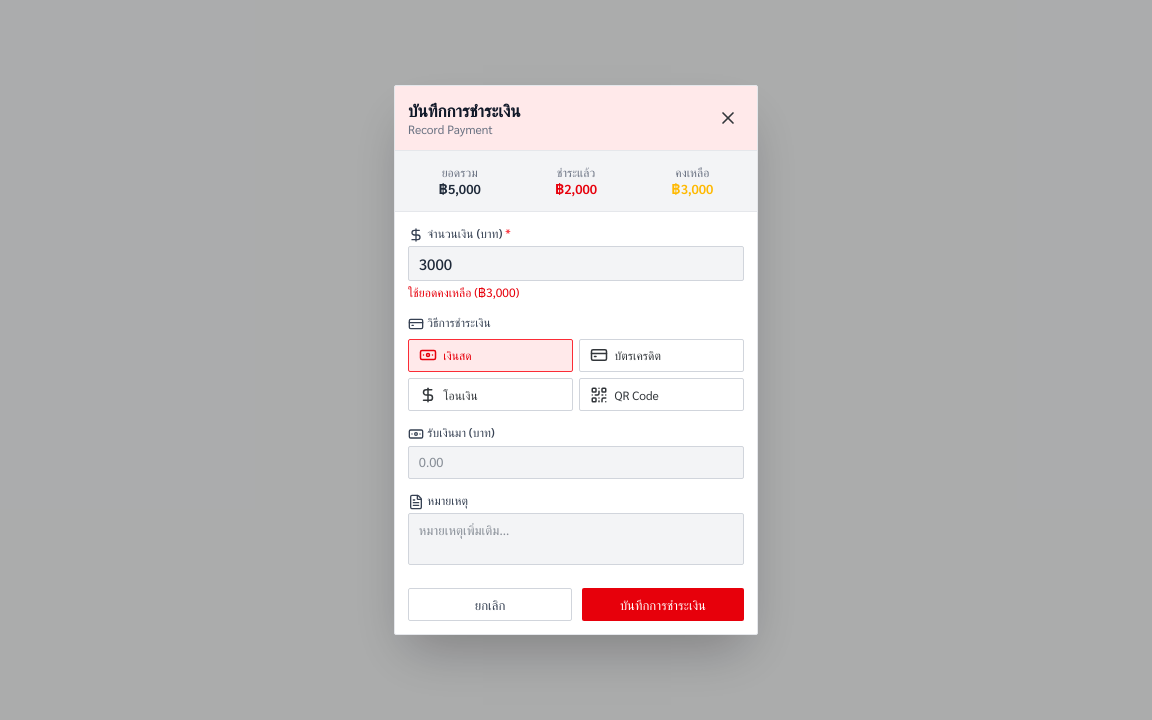
PaymentModal Component › Payment Method Selection › clicking credit card changes selection and shows reference field
The image size is (1152, 720).
Click the button "บัตรเครดิต" at [662, 356], box [579,339,744,372]
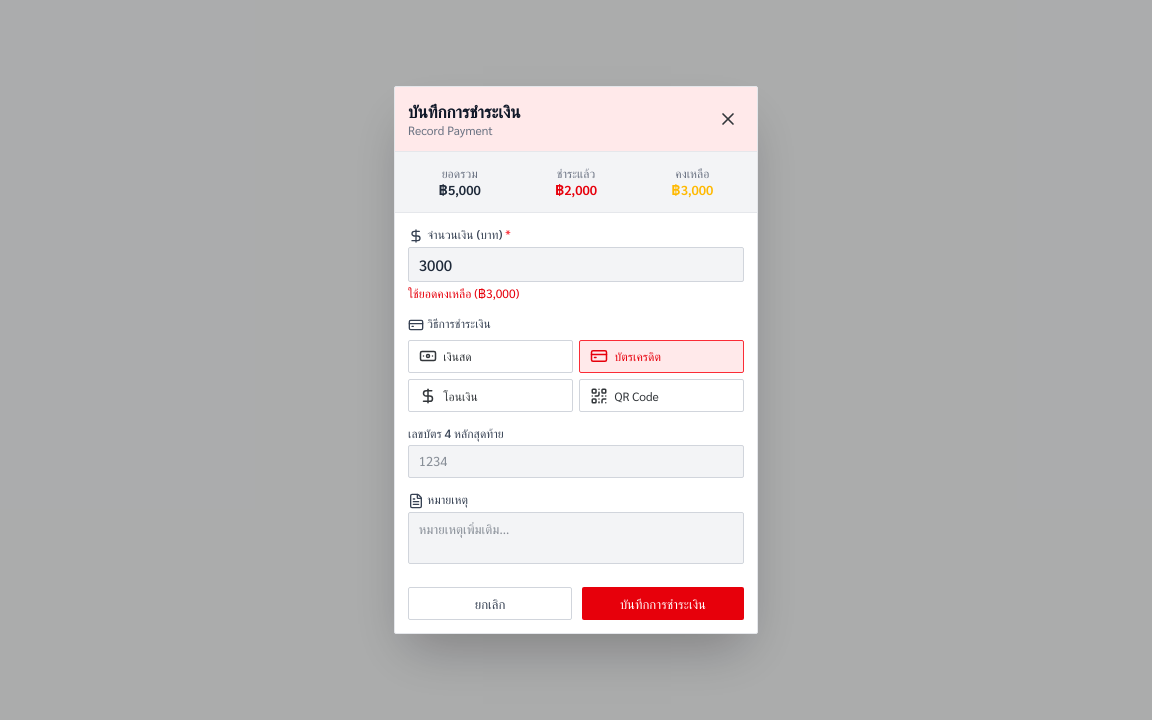
Expected: the field with placeholder "1234" is shown, [408,445,744,478]
